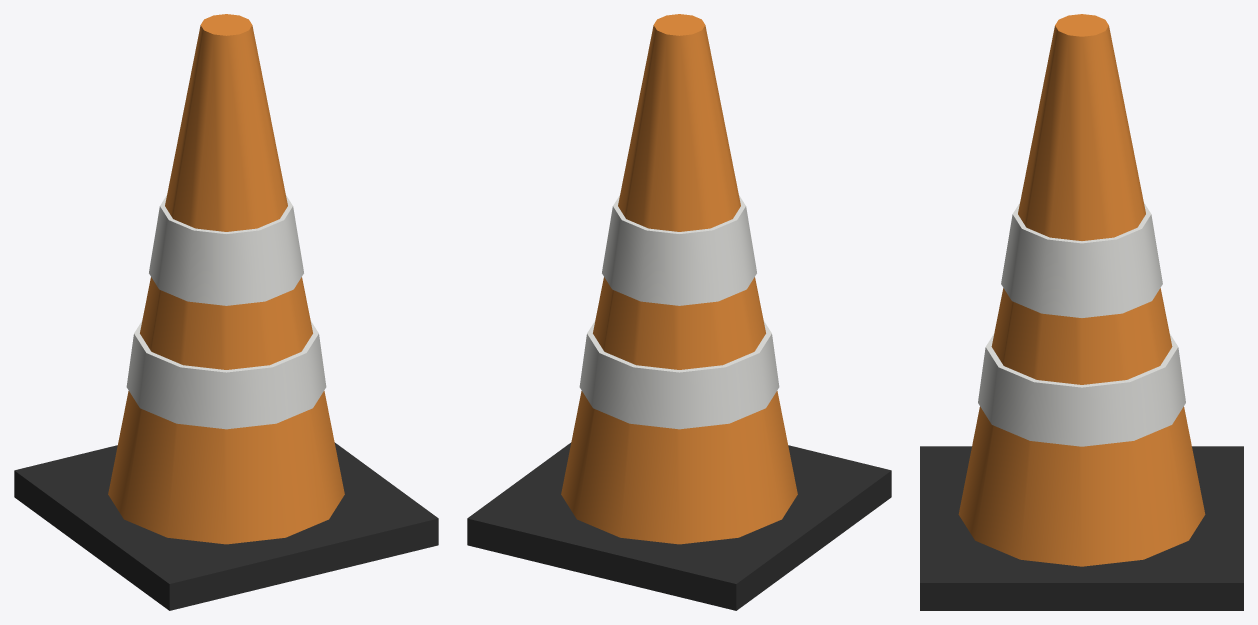
File: TrafficCone.glb
3 views of the same model, side by side, from view 1: azimuth 30°, elevation 25°; view 2: azimuth 150°, elevation 25°; view 3: azimuth 270°, elevation 25° (orthographic). The views are drawn at different scales.
Parts seen in each view (by area): view 1: TrafficCone_cyl, TrafficCone_cube, TrafficCone_cyl.002, TrafficCone_cyl.001; view 2: TrafficCone_cyl, TrafficCone_cube, TrafficCone_cyl.002, TrafficCone_cyl.001; view 3: TrafficCone_cyl, TrafficCone_cube, TrafficCone_cyl.002, TrafficCone_cyl.001.
Boxes of the visible parts, <box> form: TrafficCone_cyl: <box>108,14,344,544</box>; TrafficCone_cube: <box>14,442,438,610</box>; TrafficCone_cyl.002: <box>126,321,326,429</box>; TrafficCone_cyl.001: <box>149,195,303,305</box>; TrafficCone_cyl: <box>561,14,797,544</box>; TrafficCone_cube: <box>467,442,891,610</box>; TrafficCone_cyl.002: <box>579,321,779,429</box>; TrafficCone_cyl.001: <box>602,195,756,305</box>; TrafficCone_cyl: <box>958,14,1205,566</box>; TrafficCone_cube: <box>920,446,1243,610</box>; TrafficCone_cyl.002: <box>978,333,1185,446</box>; TrafficCone_cyl.001: <box>1001,203,1162,317</box>.
Size of the model in its own units: 0.42 by 0.74 by 0.42.
